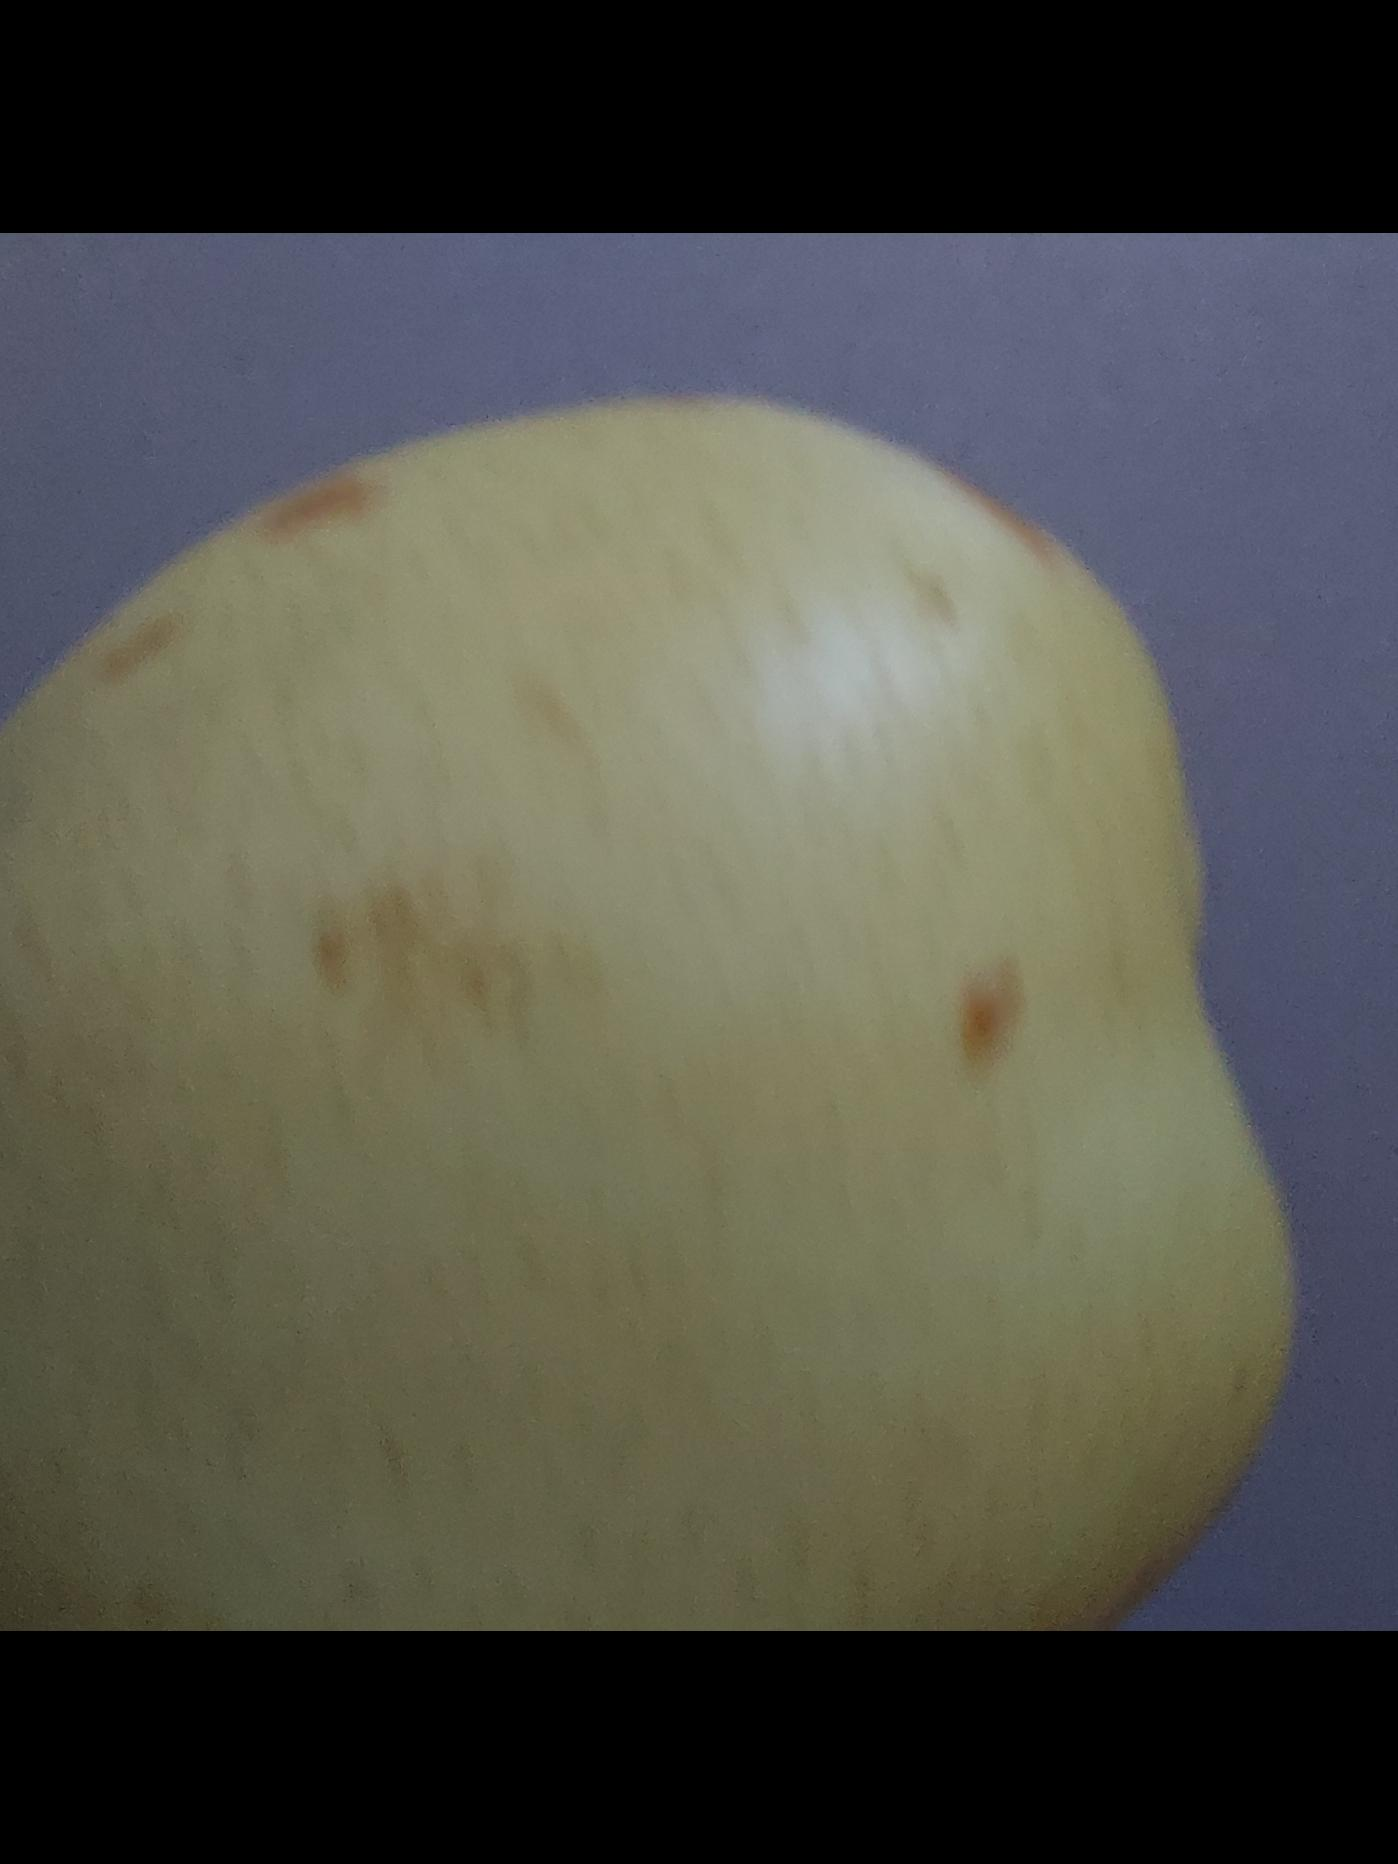Good Pear: (0, 387, 1301, 1631)
